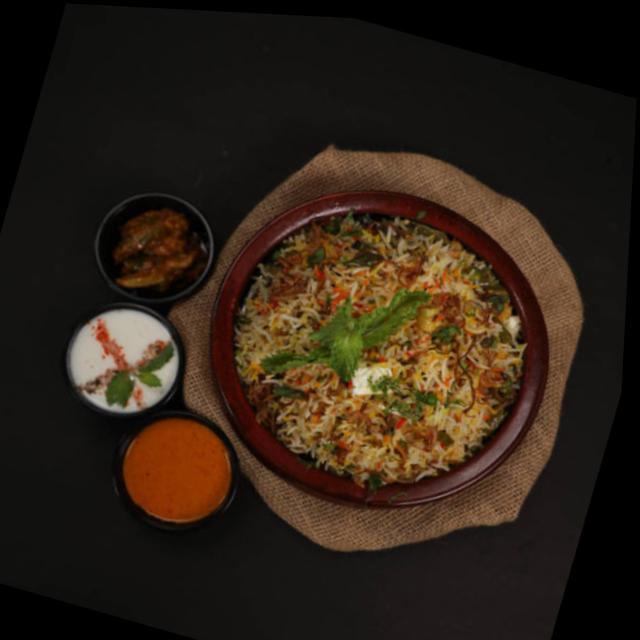BIRIYANI: (206, 173, 567, 522)
CURD: (67, 297, 191, 417)
CURRY: (122, 417, 232, 524)
RED CHUTNEY: (112, 207, 207, 295)
